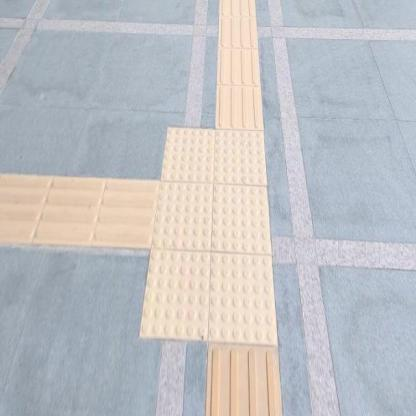podotacti: (118, 86, 307, 380), (0, 172, 146, 253), (216, 0, 262, 128), (206, 345, 280, 415)
